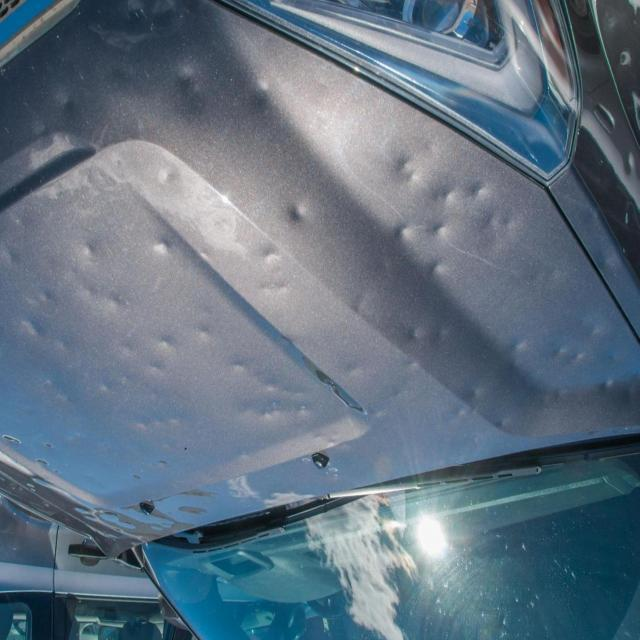dent: (365, 123, 528, 292), (272, 150, 324, 258)
